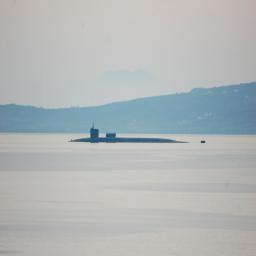submarine: (63, 120, 210, 145)
